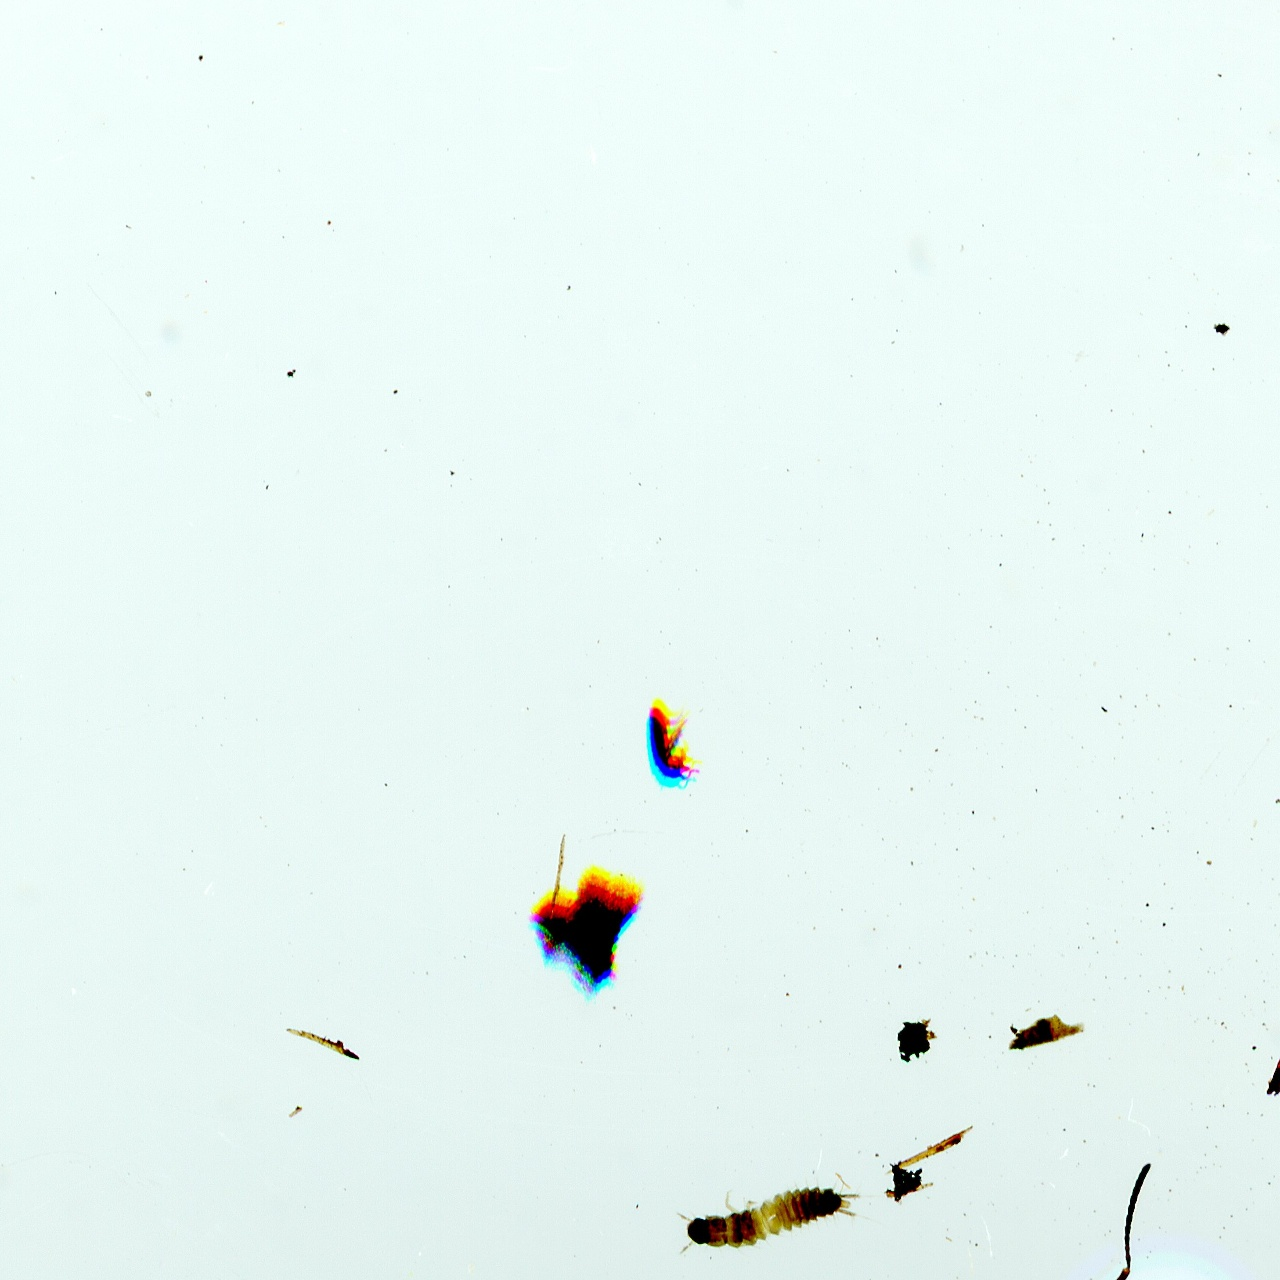arthropod: (986, 1158, 1280, 1280), (660, 1157, 894, 1271), (639, 690, 704, 802)
